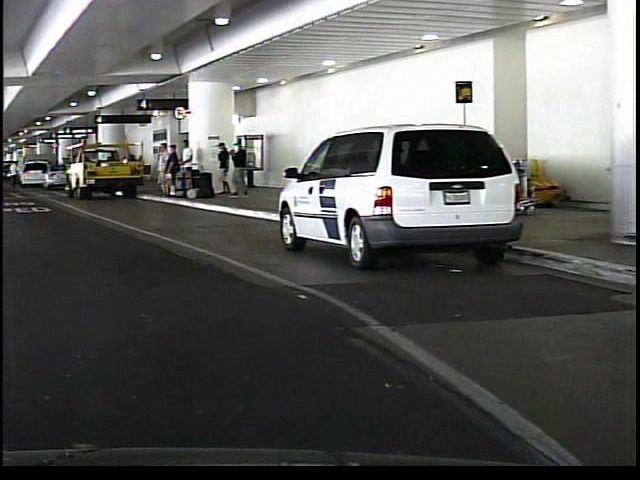person: (227, 140, 243, 200), (148, 141, 163, 198), (5, 159, 17, 189)
